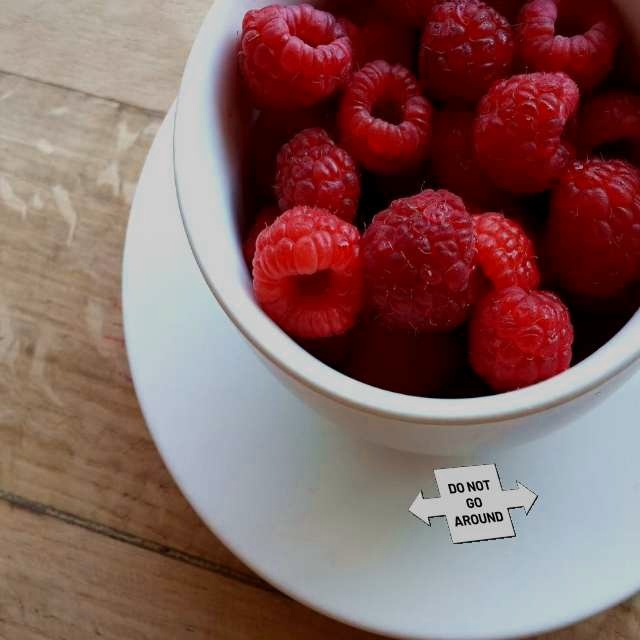DO_NOT_GO_AROUND: (407, 463, 538, 544)
